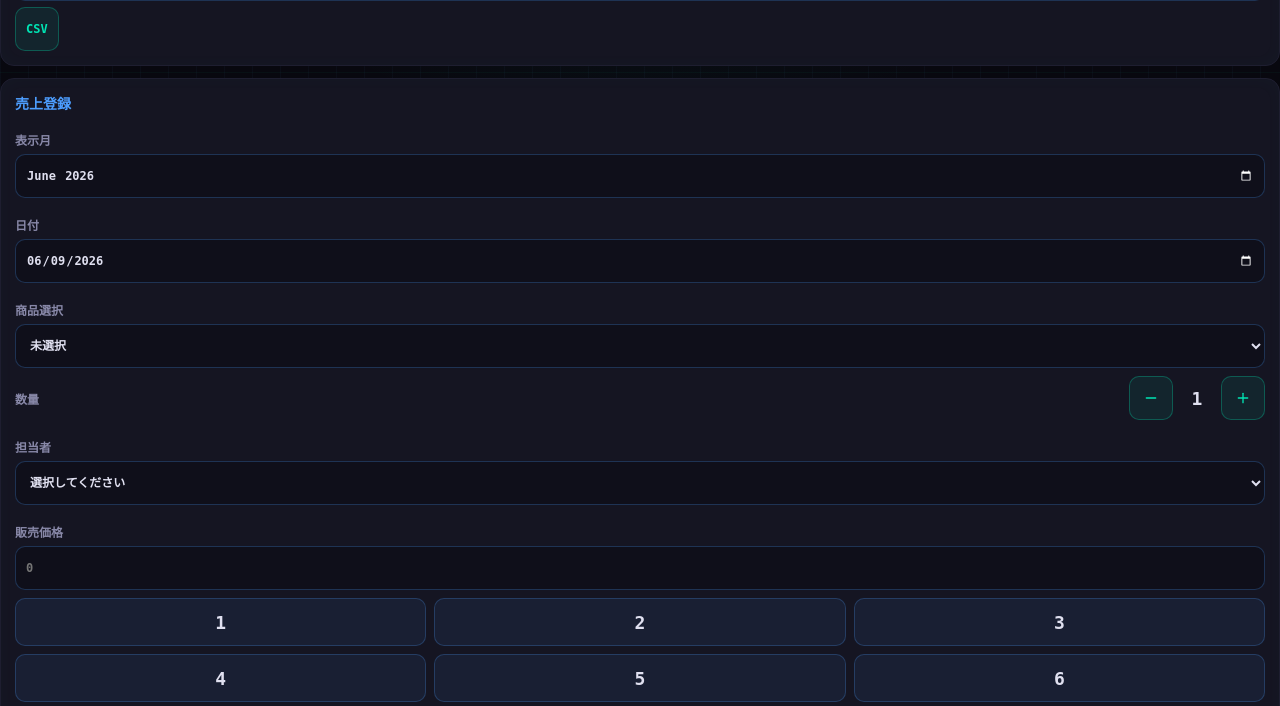
it: SalesPage › 粗利が自動計算される
This screenshot has width=1280, height=706.
(page scrolled)
Select "A / 商品A" in the dropdown labelled "商品選択": (640, 346) [15, 324, 1265, 368]
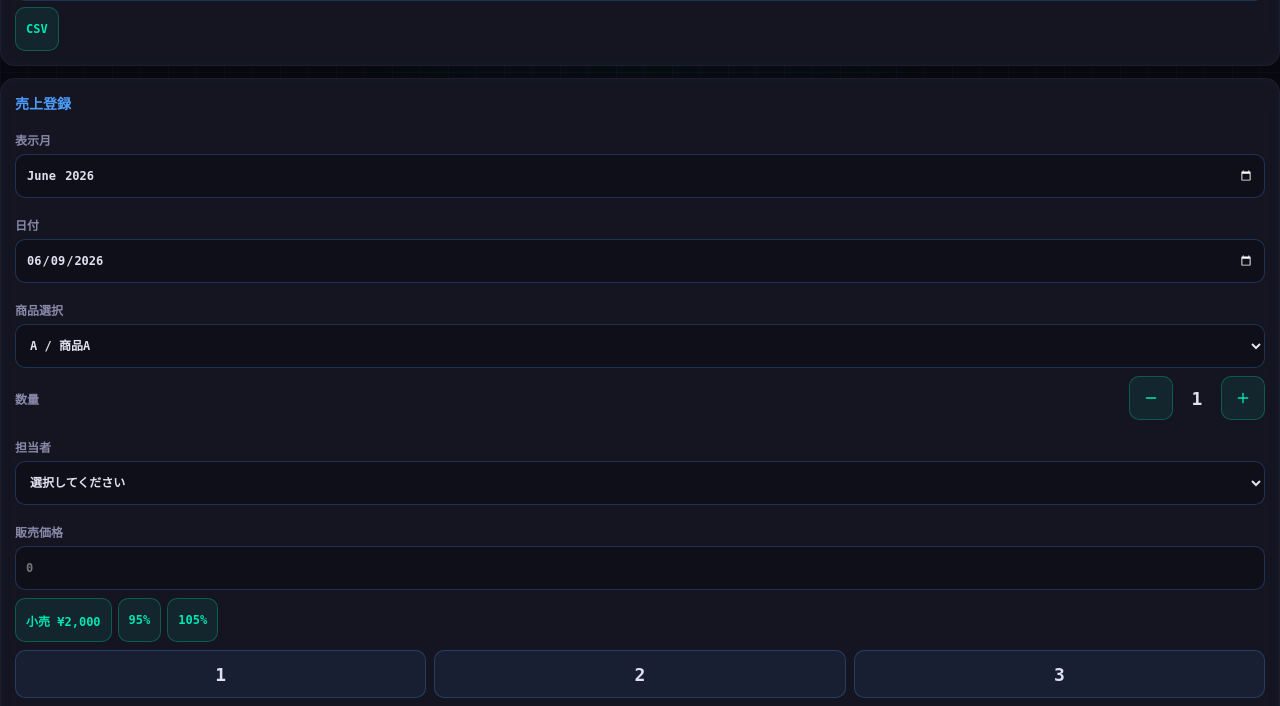
In the number field labelled "販売価格": (640, 568) [15, 546, 1265, 590], type "2500"
(page scrolled)
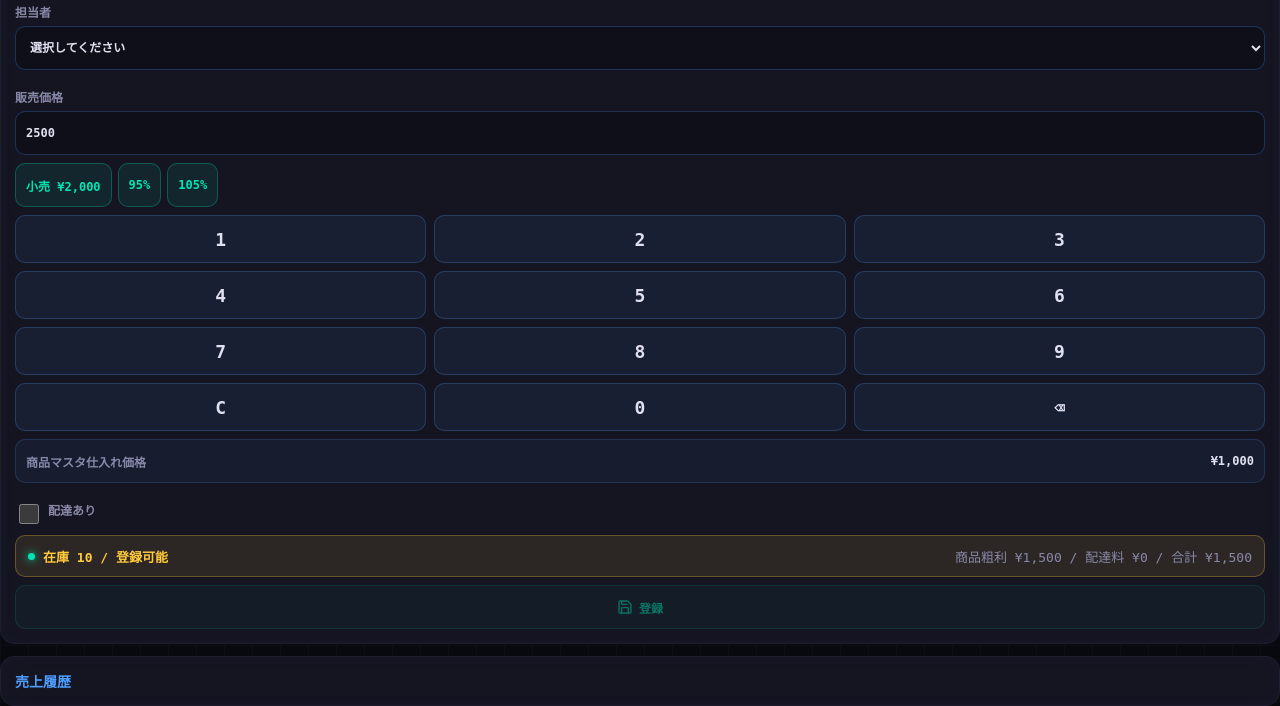
Result: the text "商品粗利 ¥1,500 / 配達料 ¥0 / 合計 ¥1,500" is shown at [955, 546, 1252, 566]
